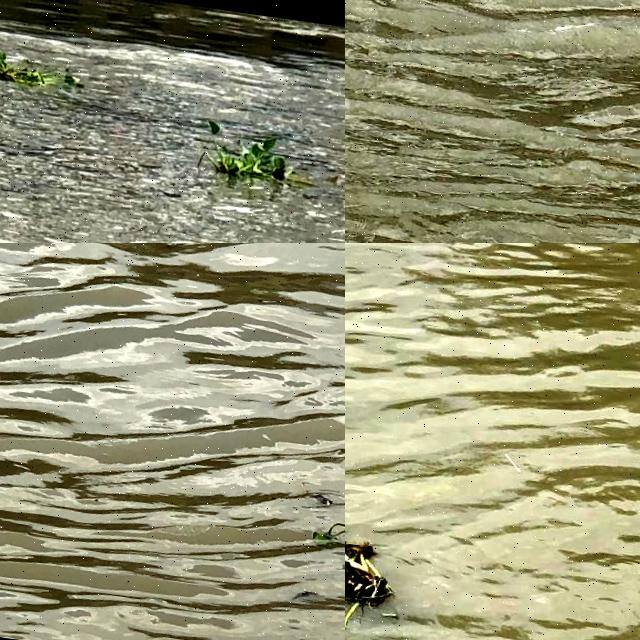water-hyacinth: (346, 490, 476, 640), (188, 108, 304, 186), (314, 480, 346, 586), (1, 52, 78, 91)
